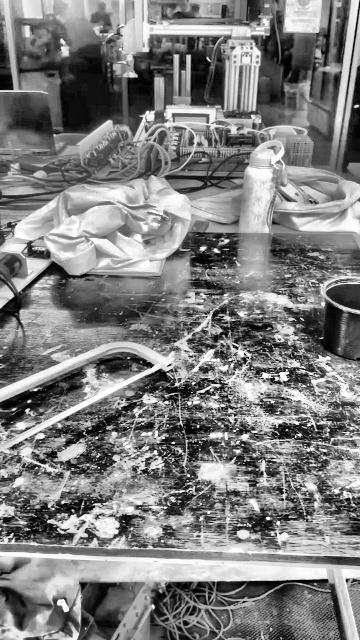pot: (320, 277, 360, 361)
